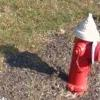a fire hydrant: (66, 14, 99, 99)
